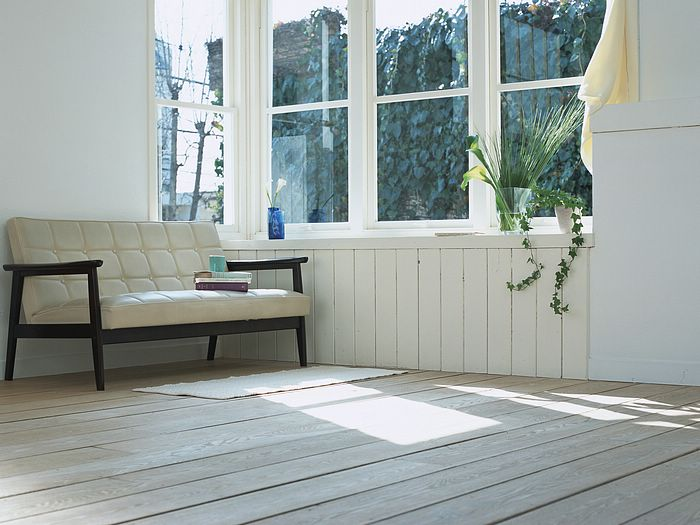chair: (4, 213, 309, 385)
